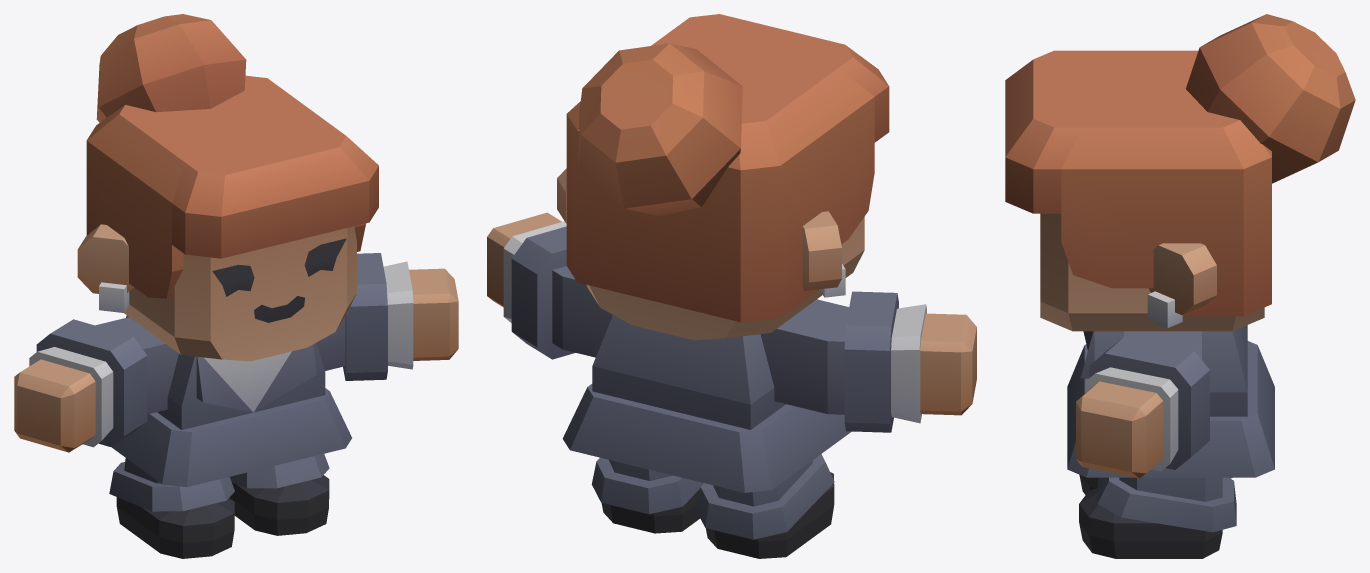
The model's file is citizen-female-d.glb.
The picture shows the model from 3 angles, left to right: view 1: azimuth 30°, elevation 25°; view 2: azimuth 150°, elevation 25°; view 3: azimuth 270°, elevation 25°; orthographic projection. The views are drawn at different scales.
Visible parts, largest first — view 1: citizen-female-d; view 2: citizen-female-d; view 3: citizen-female-d.
Boxes of the visible parts, x1,y1,x2,y2 form: citizen-female-d: [14, 14, 458, 558]; citizen-female-d: [487, 14, 976, 558]; citizen-female-d: [1005, 14, 1355, 558].
Bounding box in the file's own units: 0.9892 × 1 × 0.6442.
